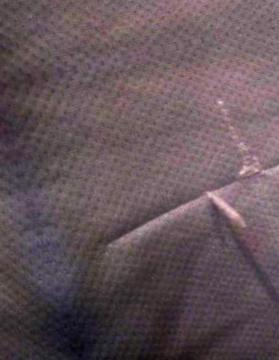snag: (200, 180, 247, 242)
